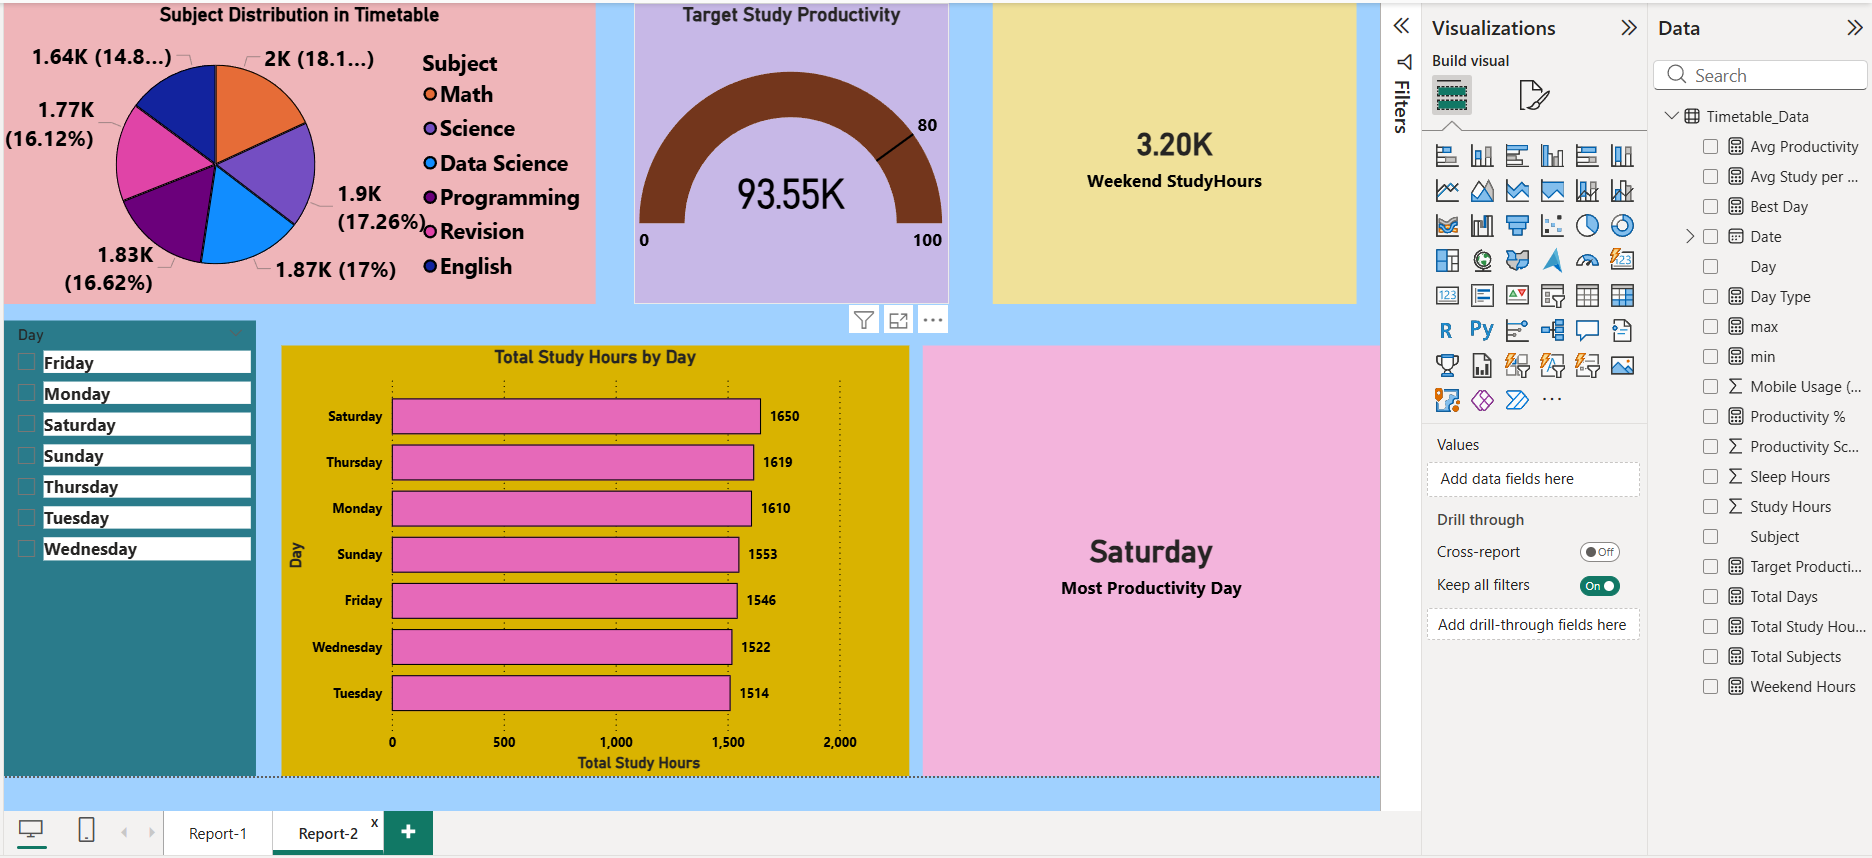

This screenshot's page, from the dashboard's own definition file:
{"tool":"powerbi","page":{"name":"Report-2","canvas":[1280,720],"ordinal":1},"visuals":[{"type":"pieChart","title":"Subject Distribution in Timetable","fields":{"Y":["Timetable_Data.Total Study Hours"],"Category":["Timetable_Data.Subject"]},"box":[0,0,550,280],"z":0},{"type":"slicer","fields":{"Values":["Timetable_Data.Day"]},"box":[0,295,234.6,425.4],"z":1000},{"type":"clusteredBarChart","fields":{"Category":["Timetable_Data.Day"],"Y":["Timetable_Data.Total Study Hours"]},"box":[258.1,318.6,583.7,401.2],"z":2000},{"type":"card","fields":{"Values":["Timetable_Data.Weekend Hours"]},"box":[919.8,0,338.4,280.2],"z":3000},{"type":"card","fields":{"Values":["Timetable_Data.Best Day"]},"box":[854.4,318.9,425.6,401.1],"z":4000},{"type":"gauge","title":"Target Study Productivity","fields":{"MinValue":["Timetable_Data.min"],"MaxValue":["Timetable_Data.max"],"Y":["Sum(Timetable_Data.Productivity Score)"],"TargetValue":["Timetable_Data.Target Productivity"]},"box":[585.6,0,293.3,280],"z":5000}]}

Visuals, with their boxes on the page's 1280x720 design canvas (x1, y1, x2, y2). These are canvas units, not pixel positions in the 1872x858 screenshot, which may show the page scaled, cropped or inside an application window:
"Subject Distribution in Timetable" pieChart: bbox=(0, 0, 550, 280)
slicer - Timetable_Data.Day: bbox=(0, 295, 235, 720)
clusteredBarChart - Timetable_Data.Day x Timetable_Data.Total Study Hours: bbox=(258, 319, 842, 720)
card - Timetable_Data.Weekend Hours: bbox=(920, 0, 1258, 280)
card - Timetable_Data.Best Day: bbox=(854, 319, 1280, 720)
"Target Study Productivity" gauge: bbox=(586, 0, 879, 280)
